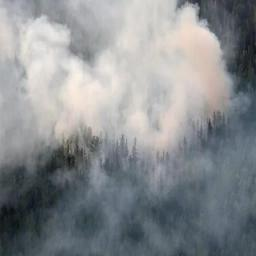Heavy smoke: (0, 2, 240, 153)
